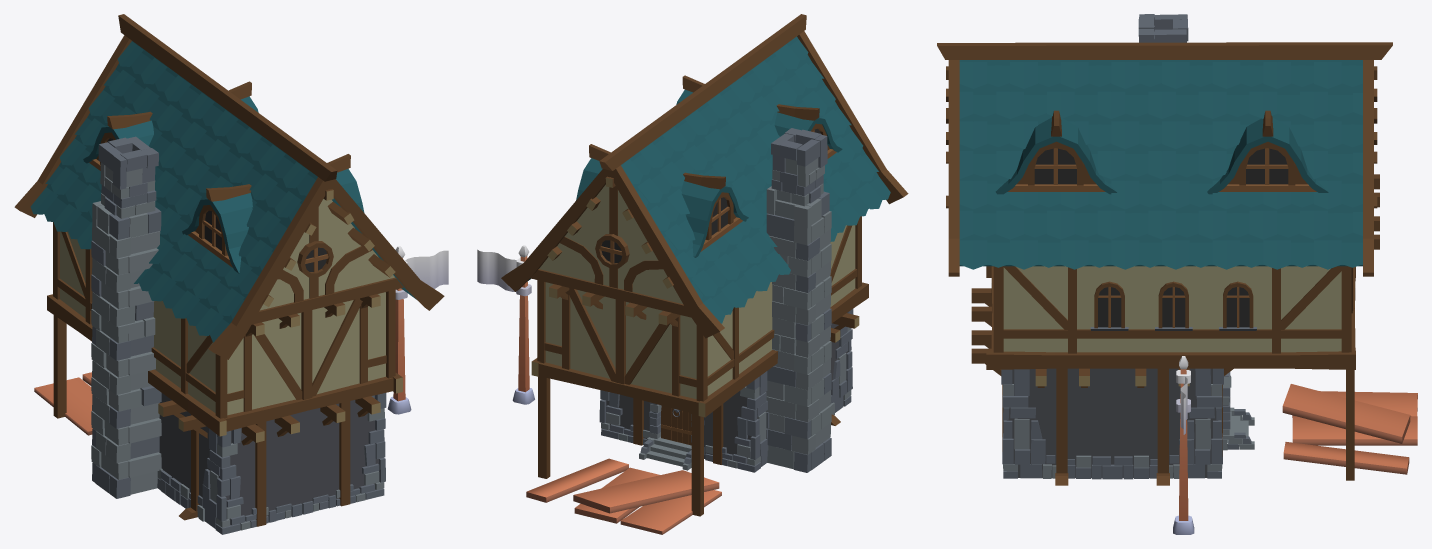
File: london_harbor_2.glb
3 views of the same model, side by side, from view 1: azimuth 30°, elevation 25°; view 2: azimuth 150°, elevation 25°; view 3: azimuth 270°, elevation 25° (orthographic). The views are drawn at different scales.
Visible parts, largest first — view 1: House_2, flag-high, platform-planks; view 2: House_2, platform-planks, flag-high; view 3: House_2, platform-planks, flag-high.
Part boxes in pixels (x1,y1,x2,y2): House_2: [14, 14, 444, 534]; flag-high: [387, 246, 448, 414]; platform-planks: [34, 372, 92, 435]; House_2: [501, 14, 908, 516]; platform-planks: [526, 458, 721, 534]; flag-high: [477, 245, 534, 404]; House_2: [937, 14, 1392, 485]; platform-planks: [1282, 384, 1417, 474]; flag-high: [1173, 356, 1194, 534].
Size of the model in its own units: 13.1 by 13 by 14.42.
Materials: 11 (2 with a texture image).
